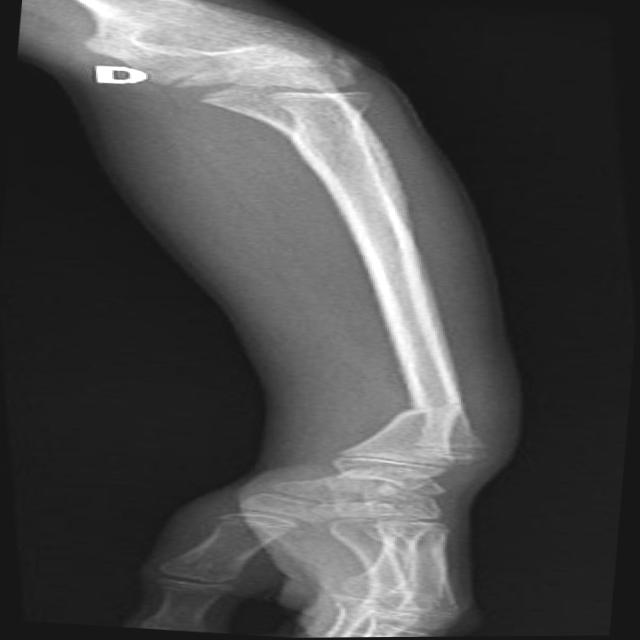Transverse Displaced: (349, 381, 525, 449)
